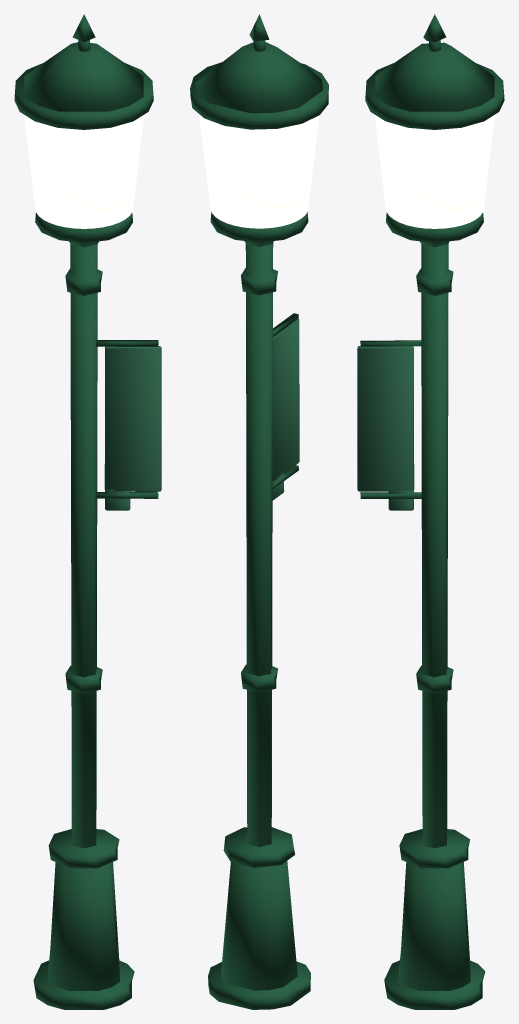
Rendered from street_lamp.glb.
3 views of the same model, side by side, from view 1: azimuth 90°, elevation 25°; view 2: azimuth 150°, elevation 25°; view 3: azimuth 270°, elevation 25° (orthographic).
Parts seen in each view (by area): view 1: BannerArm2.1, Lantern, Banner; view 2: BannerArm2.1, Lantern, Banner; view 3: BannerArm2.1, Lantern, Banner.
Part boxes in pixels (x1,y1,x2,y2): BannerArm2.1: (14, 14, 158, 1009); Lantern: (24, 115, 144, 228); Banner: (104, 346, 161, 510); BannerArm2.1: (190, 14, 328, 1009); Lantern: (199, 114, 319, 228); Banner: (272, 319, 299, 500); BannerArm2.1: (360, 14, 504, 1009); Lantern: (374, 115, 494, 228); Banner: (357, 346, 414, 510).
Bounding box in the file's own units: 0.3522 × 2.72 × 0.3718.
